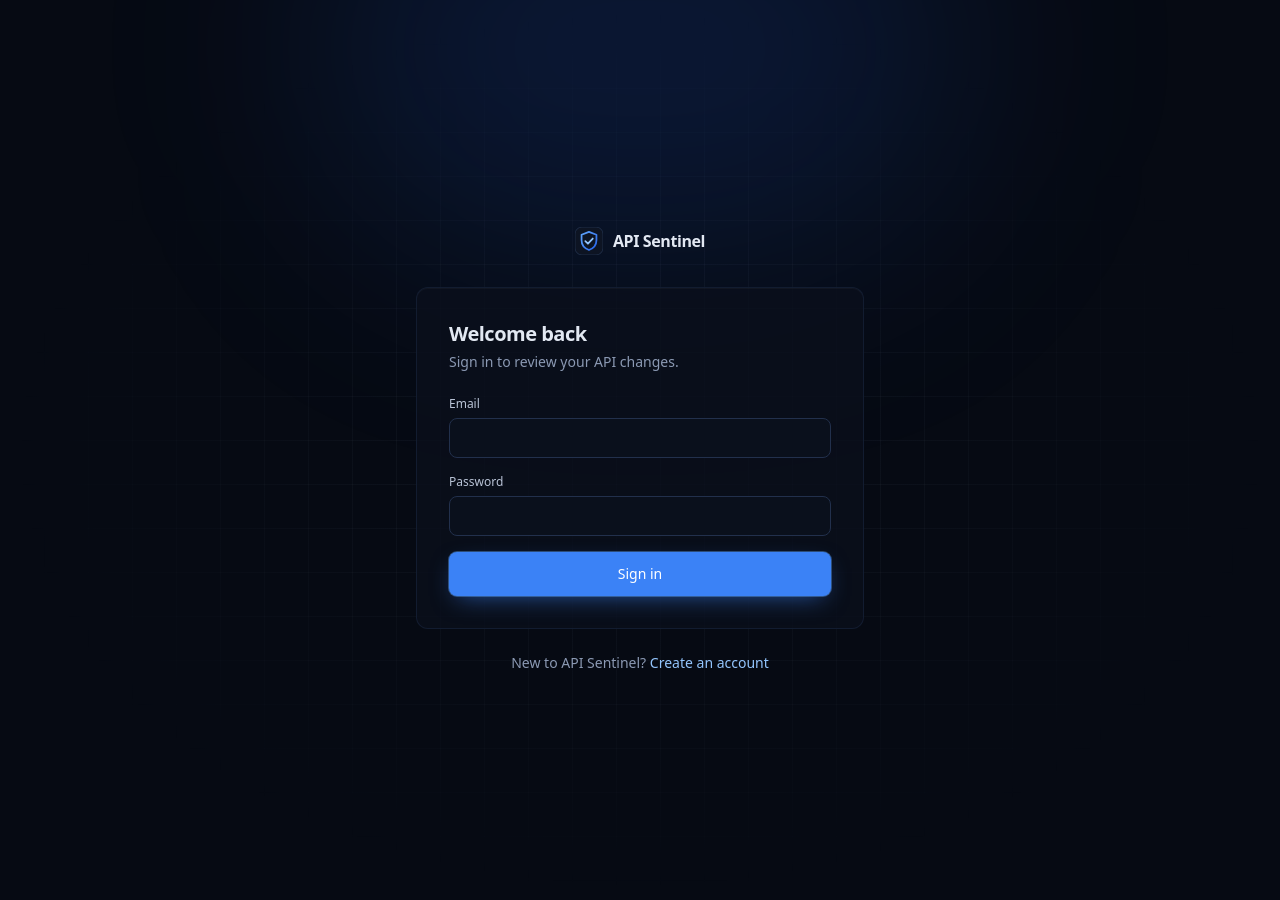
Test: AppShell › returns to the original page after an expired session is renewed
This screenshot has width=1280, height=900.
Expected: the heading "Welcome back" is shown, [449,320,587,347]
Type "ada@example.com" into the field labelled "Email" at (640, 438), box [449,418,831,458]
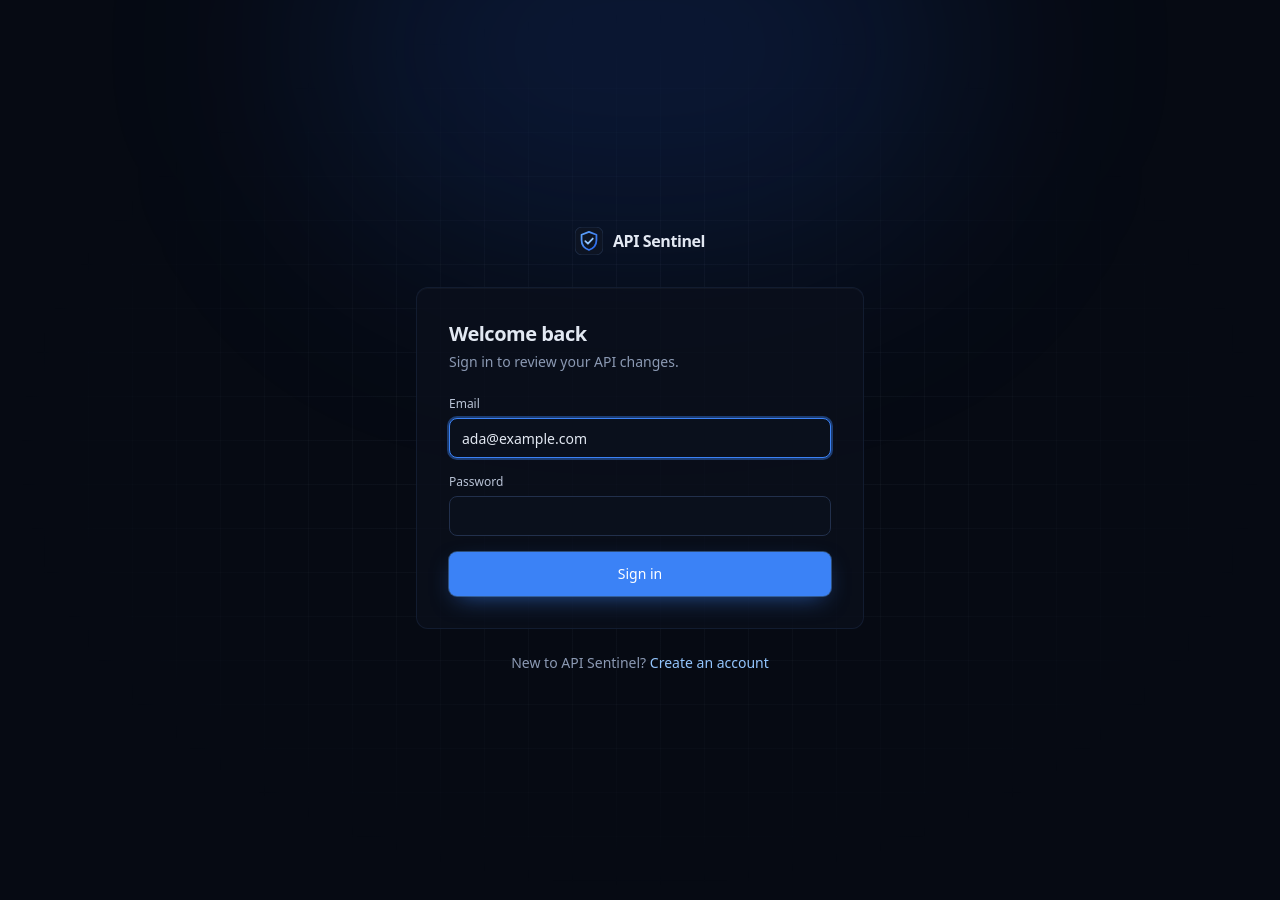
Type "Correct-horse-9" into the password field labelled "Password" at (640, 516), box [449,496,831,536]
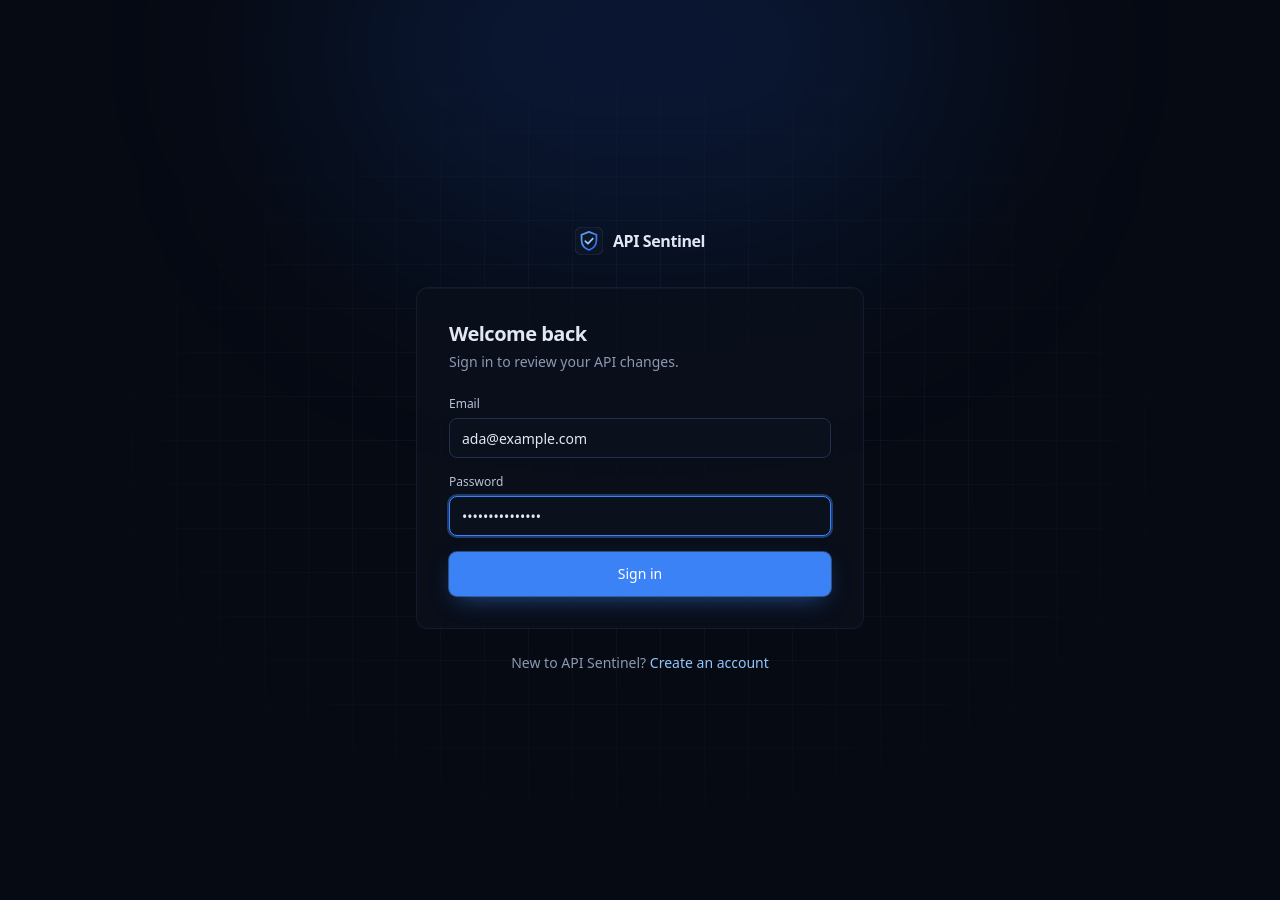
Click the button "Sign in" at (640, 574), box [449,552,831,596]
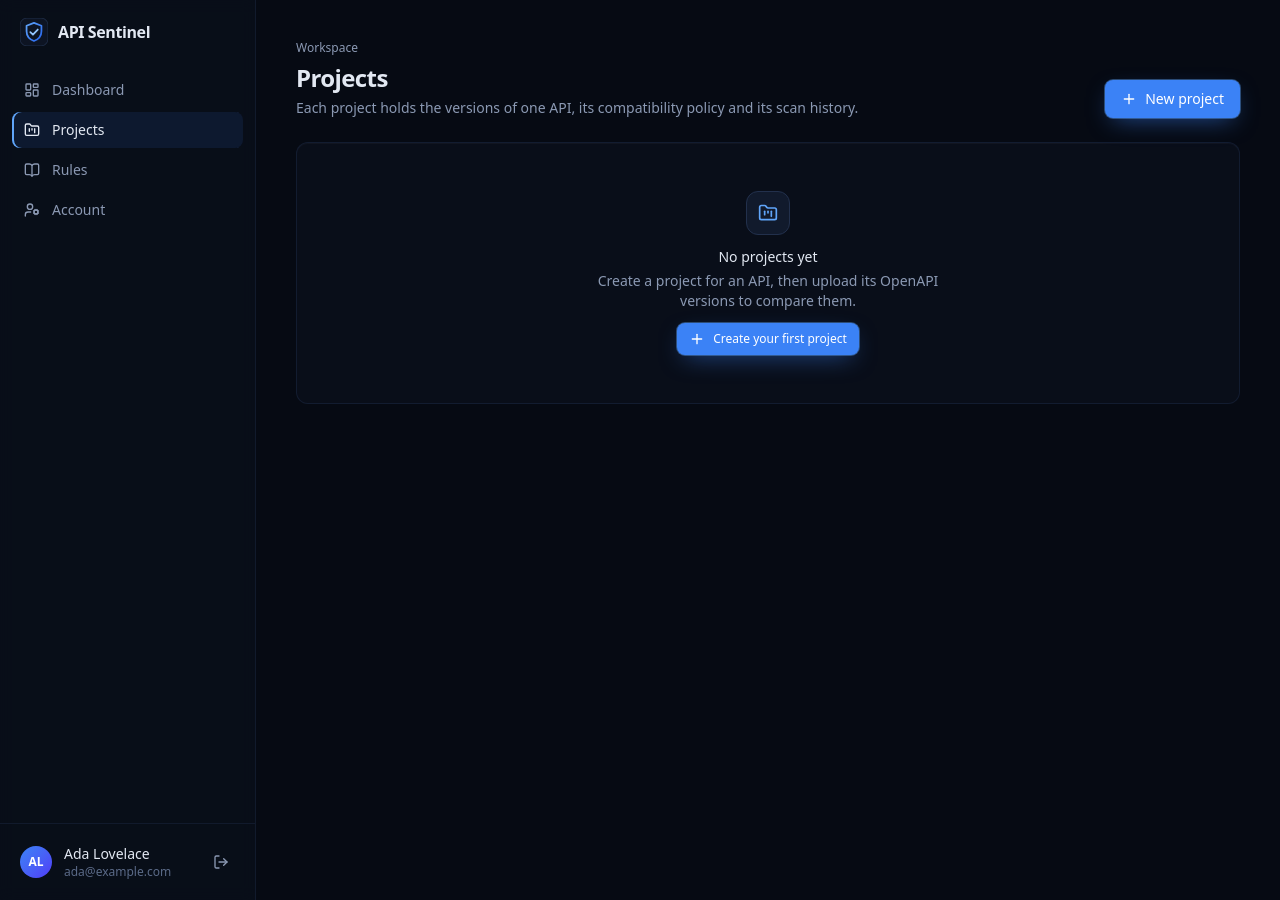
Expected: the heading "Projects" is shown, [296,61,388,94]
